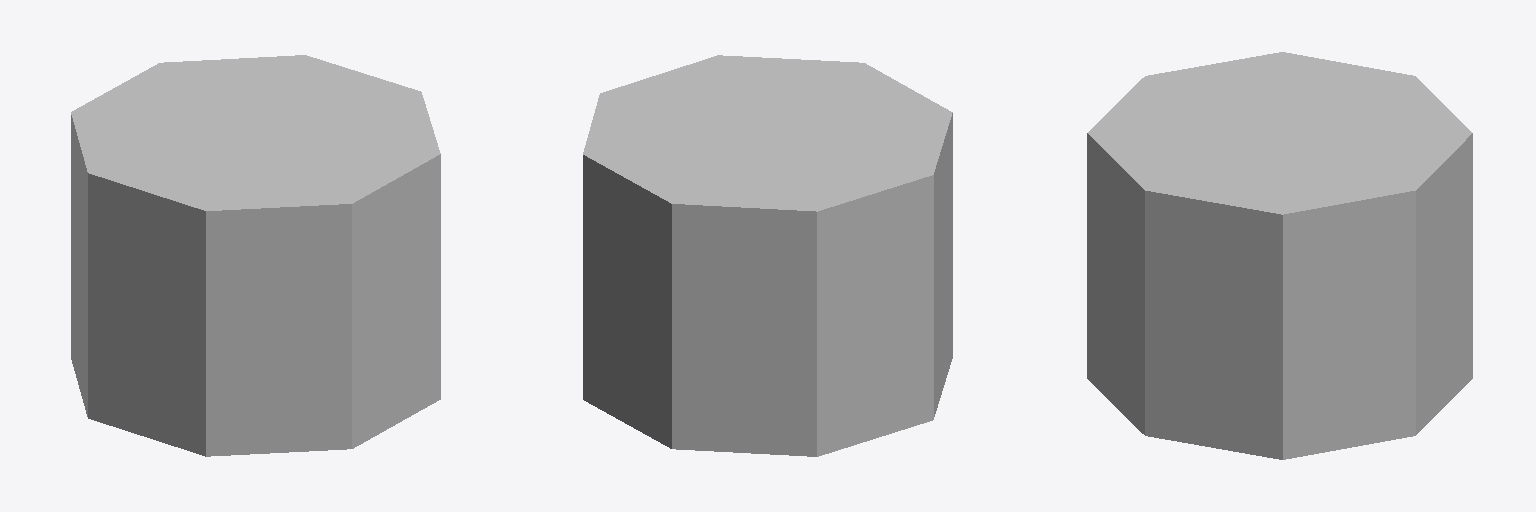
Rendered from non-quad-block.obj.
3 renders of one model, left to right at view 1: azimuth 30°, elevation 25°; view 2: azimuth 150°, elevation 25°; view 3: azimuth 270°, elevation 25°, orthographic.
Visible parts, largest first — view 1: Cube; view 2: Cube; view 3: Cube.
Boxes of the visible parts, <box> form: Cube: <box>71,55,440,456</box>; Cube: <box>583,55,952,456</box>; Cube: <box>1087,52,1472,459</box>.
Bounding box in the file's own units: 2.85 × 2 × 2.85.